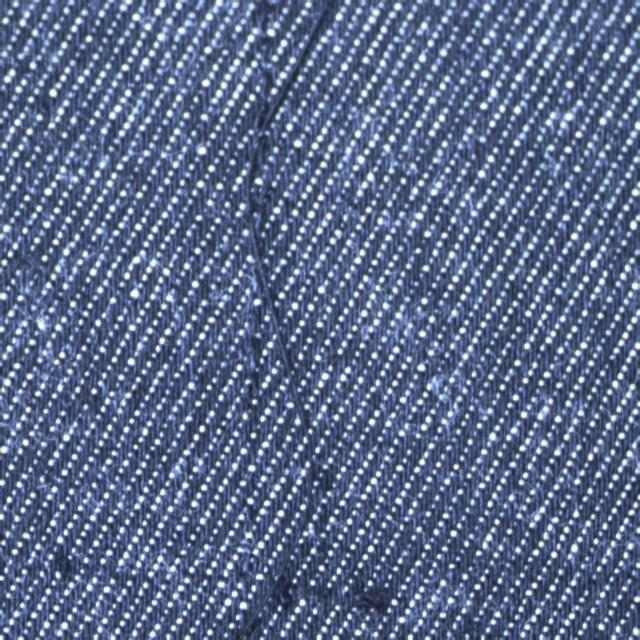defect: (220, 3, 351, 501), (224, 500, 322, 638)
